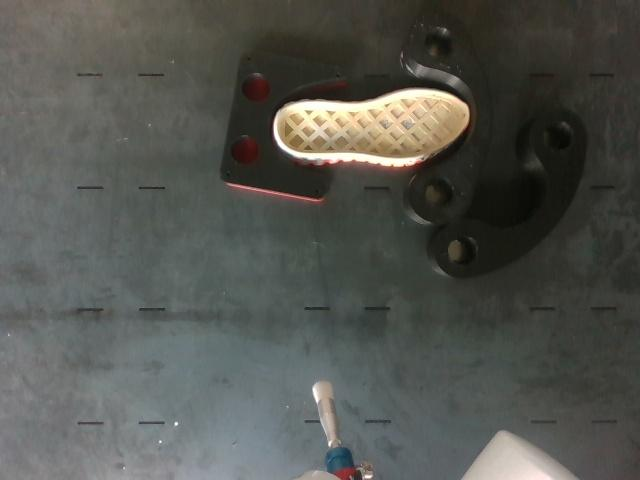shoes: (276, 90, 469, 159)
